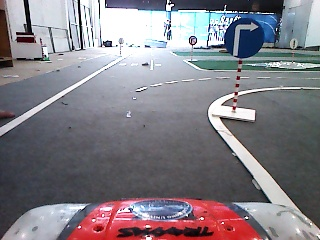turn_right: (224, 18, 265, 58)
